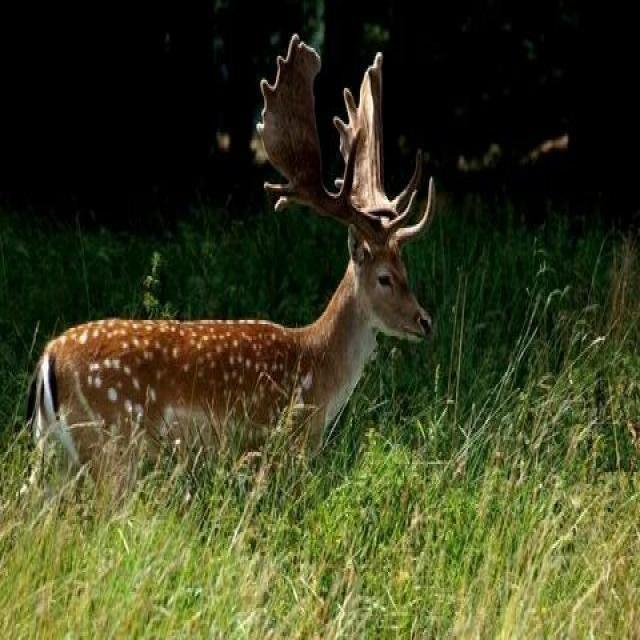deer: (42, 44, 508, 615)
